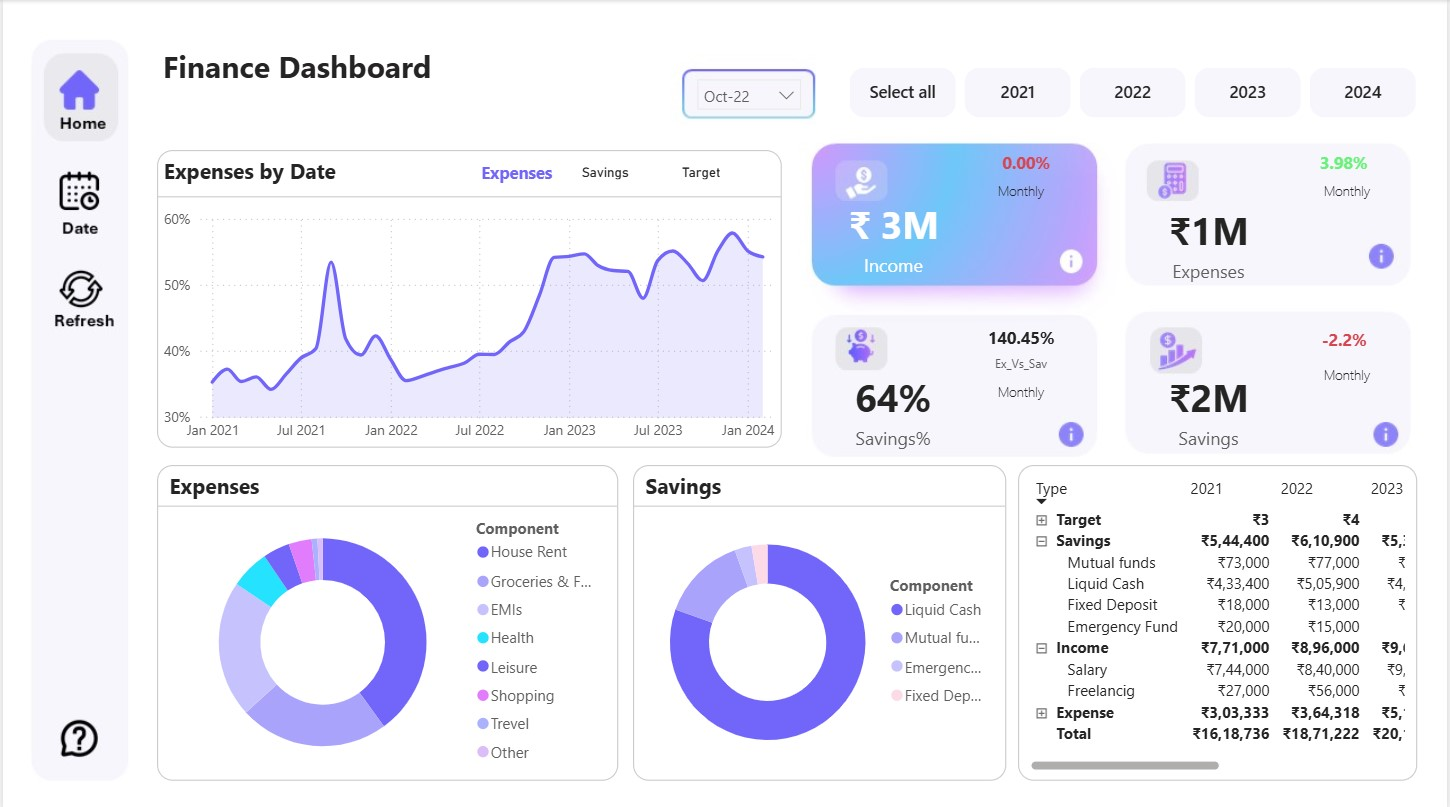

Layout of this report page (visuals, bound fields, positions):
{"tool":"powerbi","page":{"name":"Page 1","canvas":[1280,720],"ordinal":0},"visuals":[{"type":"donutChart","title":"Savings","fields":{"Category":["Dataset.Component"],"Y":["Dataset.Savings"]},"box":[558.6,412.3,330.7,280.2],"z":0},{"type":"areaChart","fields":{"Category":["Dataset.Date.Variation.Date Hierarchy.Year","Dataset.Date.Variation.Date Hierarchy.Quarter","Dataset.Date.Variation.Date Hierarchy.Month","Dataset.Date.Variation.Date Hierarchy.Day"],"Y":["Dataset.Line_chart_Measures"]},"box":[136.6,133,554.2,264.2],"z":1000},{"type":"card","fields":{"Values":["Dataset.Savings"]},"box":[1003.7,312.1,130.3,95.8],"z":2000},{"type":"card","fields":{"Values":["Dataset.Expenses"]},"box":[1003.7,164.9,130.3,93.1],"z":3000},{"type":"card","fields":{"Values":["Dataset.Savings%"]},"box":[734.2,313.9,110,91.3],"z":4000},{"type":"advancedSlicerVisual","fields":{"Values":["Dataset.Date.Variation.Date Hierarchy.Year"]},"box":[745.7,55,515.2,54.1],"z":5000},{"type":"donutChart","title":"Expenses","fields":{"Category":["Dataset.Component"],"Y":["Dataset.Expenses"]},"box":[136.6,412.3,408.8,280.2],"z":6000},{"type":"pivotTable","fields":{"Values":["Dataset.Total_Value"],"Rows":["Dataset.Type","Dataset.Component"],"Columns":["Dataset.Date.Variation.Date Hierarchy.Year"]},"box":[900,412.3,353.8,280.2],"z":7000},{"type":"card","fields":{"Values":["Dataset.Income"]},"box":[724.4,161.4,130.3,90.4],"z":8000},{"type":"advancedSlicerVisual","fields":{"Values":["Line_Selection_Table.Type"]},"box":[414.1,133,270.4,43.4],"z":9000},{"type":"textbox","box":[136.1,35.8,260.6,46.6],"z":10000},{"type":"slicer","fields":{"Values":["Selected_Date.Month-Yr"]},"box":[605.6,60.3,111.7,44.3],"z":11000},{"type":"card","fields":{"Values":["Dataset.Income_Monthly_Gr"]},"box":[869,130.3,76.3,31.9],"z":12000},{"type":"card","fields":{"Values":["Dataset.Expenses_Monthly_Gr"]},"box":[1143.8,127.7,89.6,37.2],"z":13000},{"type":"card","fields":{"Values":["Dataset.Savings_Monthly_Gr"]},"box":[1144.7,283.7,88.7,39],"z":14000},{"type":"card","fields":{"Values":["Dataset.Ex_Vs_Sav"]},"box":[860.1,283.7,85.1,49.7],"z":15000},{"type":"textbox","box":[876.9,155.2,59.4,30.1],"z":16000},{"type":"textbox","box":[1166,318.3,59.4,30.1],"z":17000},{"type":"textbox","box":[1166,155.2,59.4,30.1],"z":18000},{"type":"textbox","box":[876.9,333.4,59.4,30.1],"z":19000},{"type":"actionButton","box":[37.6,232.7,65,62.7],"z":22000}]}

Visuals, with their boxes on the page's 1280x720 design canvas (x1, y1, x2, y2). These are canvas units, not pixel positions in the 1450x807 screenshot, which may show the page scaled, cropped or inside an application window:
"Savings" donutChart: Rect(559, 412, 889, 692)
areaChart - Dataset.Date.Variation.Date Hierarchy.Year x Dataset.Date.Variation.Date Hierarchy.Quarter: Rect(137, 133, 691, 397)
card - Dataset.Savings: Rect(1004, 312, 1134, 408)
card - Dataset.Expenses: Rect(1004, 165, 1134, 258)
card - Dataset.Savings%: Rect(734, 314, 844, 405)
advancedSlicerVisual - Dataset.Date.Variation.Date Hierarchy.Year: Rect(746, 55, 1261, 109)
"Expenses" donutChart: Rect(137, 412, 545, 692)
pivotTable - Dataset.Total_Value x Dataset.Type: Rect(900, 412, 1254, 692)
card - Dataset.Income: Rect(724, 161, 855, 252)
advancedSlicerVisual - Line_Selection_Table.Type: Rect(414, 133, 684, 176)
textbox: Rect(136, 36, 397, 82)
slicer - Selected_Date.Month-Yr: Rect(606, 60, 717, 105)
card - Dataset.Income_Monthly_Gr: Rect(869, 130, 945, 162)
card - Dataset.Expenses_Monthly_Gr: Rect(1144, 128, 1233, 165)
card - Dataset.Savings_Monthly_Gr: Rect(1145, 284, 1233, 323)
card - Dataset.Ex_Vs_Sav: Rect(860, 284, 945, 333)
textbox: Rect(877, 155, 936, 185)
textbox: Rect(1166, 318, 1225, 348)
textbox: Rect(1166, 155, 1225, 185)
textbox: Rect(877, 333, 936, 364)
actionButton: Rect(38, 233, 103, 295)
